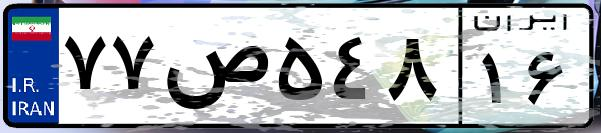1: (475, 38, 525, 113)
4: (330, 28, 385, 110)
5: (270, 28, 330, 110)
6: (525, 38, 570, 115)
7: (57, 26, 110, 100), (110, 28, 158, 98)
8: (385, 28, 445, 110)
ص: (158, 20, 270, 120)
